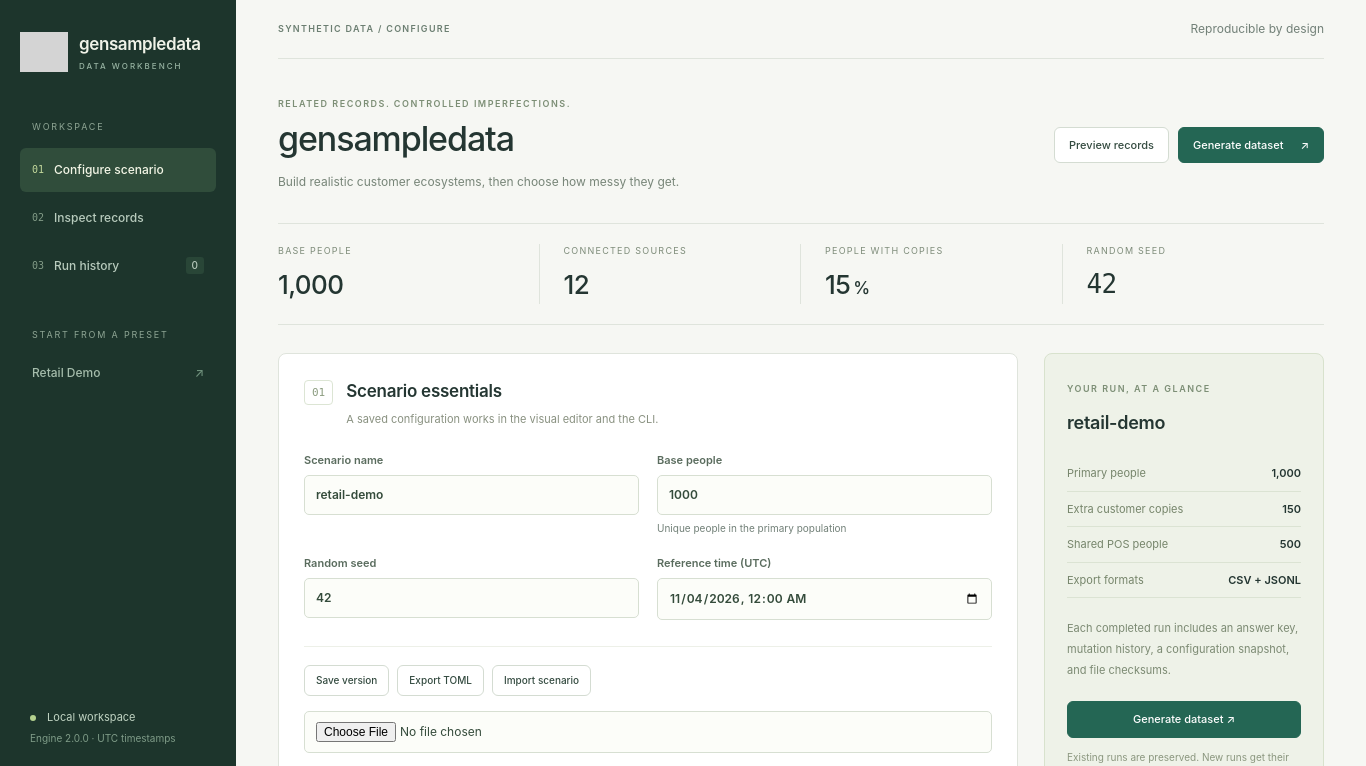
Test: workbench user flows › starts a run and exposes verified results and downloads
This screenshot has width=1366, height=766.
Expected: the number field labelled "Base people Unique people in the primary population" is shown, [657,475,992,515]
Click the 1st button "Generate dataset ↗": click(1251, 145) [1178,127,1324,163]
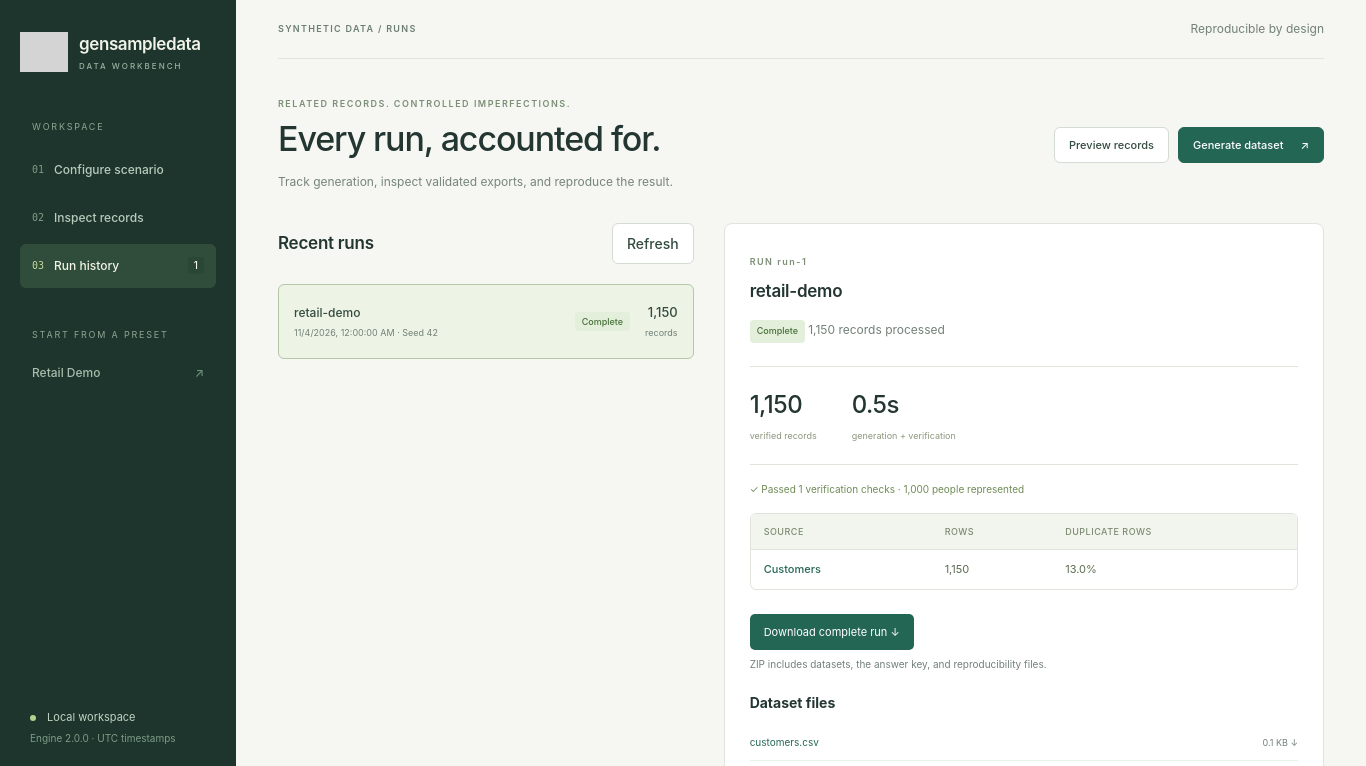
Expected: the link "customers.csv 0.1 KB ↓" is shown, [750,725,1298,761]
Expected: the text "✓ Passed 1 verification checks · 1,000 people represented" is shown, [750,483,1024,495]
